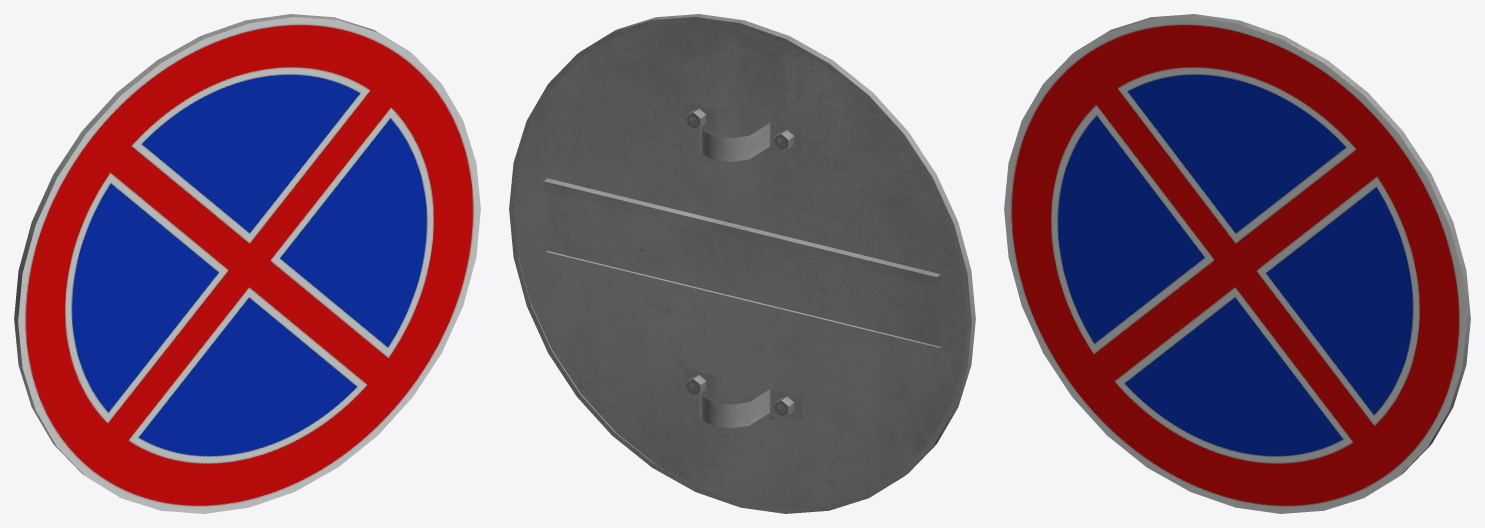
File: sign_13.glb
The picture shows the model from 3 angles, left to right: view 1: azimuth 30°, elevation 25°; view 2: azimuth 150°, elevation 25°; view 3: azimuth 330°, elevation 25°; orthographic projection.
Parts seen in each view (by area): view 1: sign_13; view 2: sign_13; view 3: sign_13.
Part boxes in pixels (x1,y1,x2,y2): sign_13: (14,14,480,513); sign_13: (509,14,975,513); sign_13: (1004,14,1470,513).
Size of the model in its own units: 2 by 2 by 0.2205.
2 materials, 2 textured.
